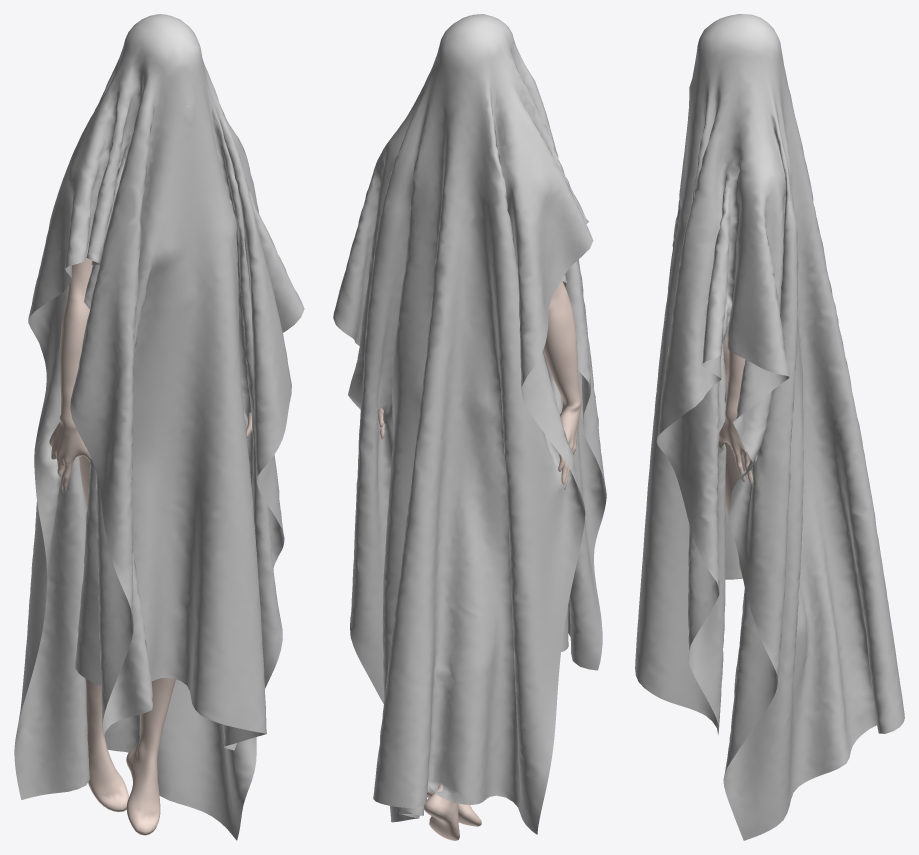
3 renders of one model, left to right at view 1: azimuth 30°, elevation 25°; view 2: azimuth 150°, elevation 25°; view 3: azimuth 270°, elevation 25°, orthographic. The views are drawn at different scales.
Parts seen in each view (by area): view 1: ee_obj_1; view 2: ee_obj_1; view 3: ee_obj_1.
Boxes of the visible parts, <box> form: ee_obj_1: <box>14,14,304,840</box>; ee_obj_1: <box>333,14,606,840</box>; ee_obj_1: <box>635,14,904,840</box>.
Size of the model in its own units: 0.5732 by 1.88 by 0.5834.
